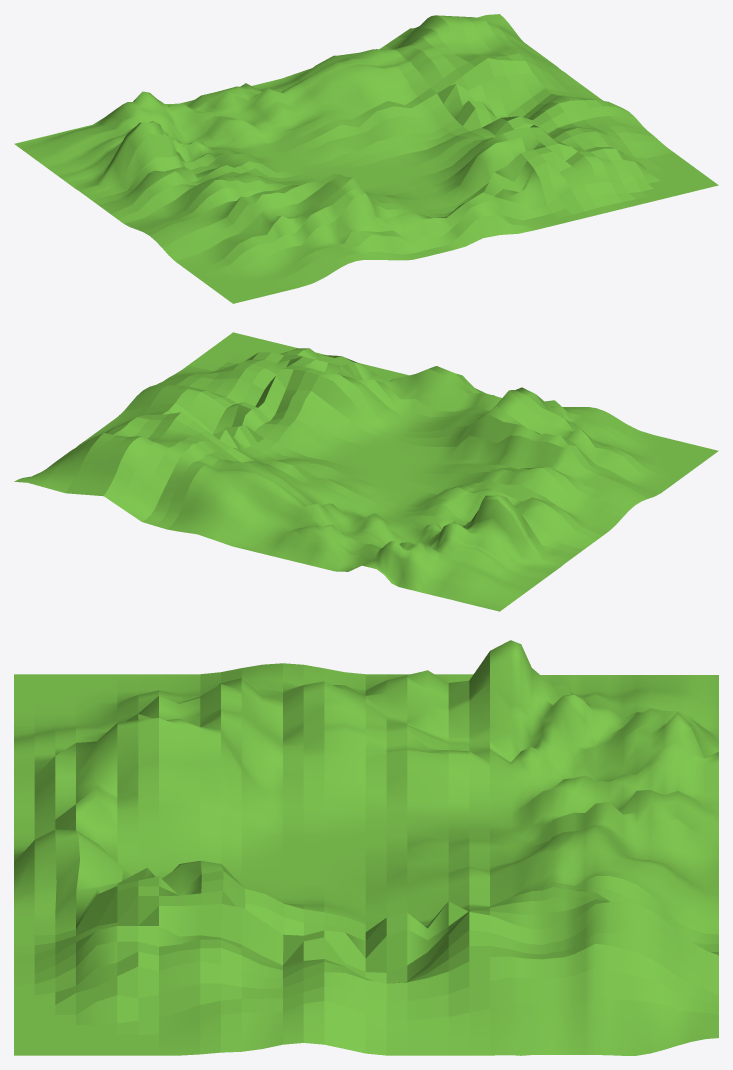
File: terrainTest.fbx
The picture shows the model from 3 angles, top to bottom: view 1: azimuth 30°, elevation 25°; view 2: azimuth 150°, elevation 25°; view 3: azimuth 270°, elevation 25°; orthographic projection. The views are drawn at different scales.
Visible parts, largest first — view 1: pPlane1; view 2: pPlane1; view 3: pPlane1.
Part boxes in pixels (left/top/right/bottom): pPlane1: left=14, top=14, right=718, bottom=303; pPlane1: left=14, top=332, right=718, bottom=611; pPlane1: left=14, top=640, right=718, bottom=1055.
Bounding box in the file's own units: 336 × 36.64 × 263.
